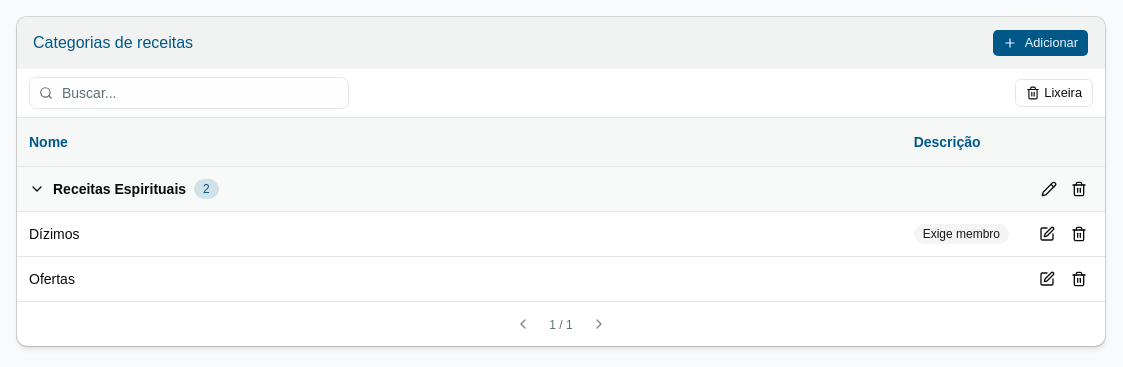
Test case: IncomeCategoriesPage › shows no result message when search returns no matches
The image size is (1123, 367).
Expected: the text "Categorias de receitas" is shown, [33,32,193,54]
Type "xyz" into the field with placeholder "Buscar...".
click(189, 93); type("xyz")  # box [29,77,349,109]
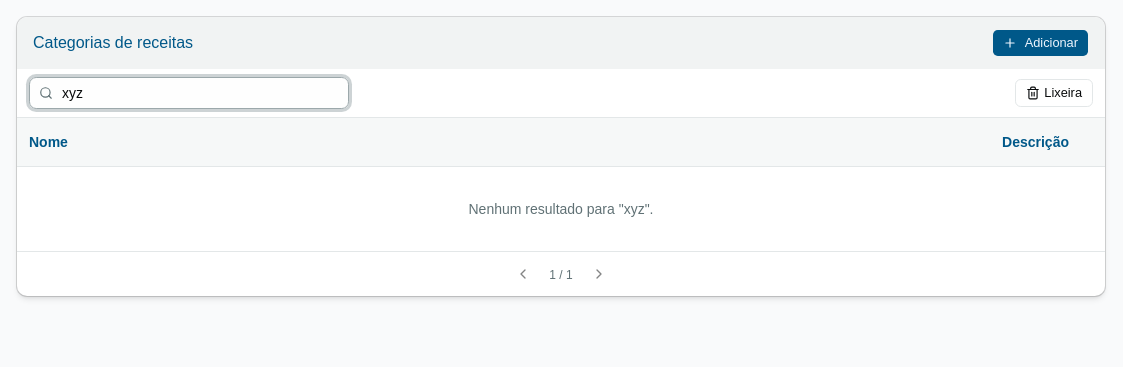
Expected: the text "Nenhum resultado para \"xyz\"." is shown, [17,166,1105,250]
